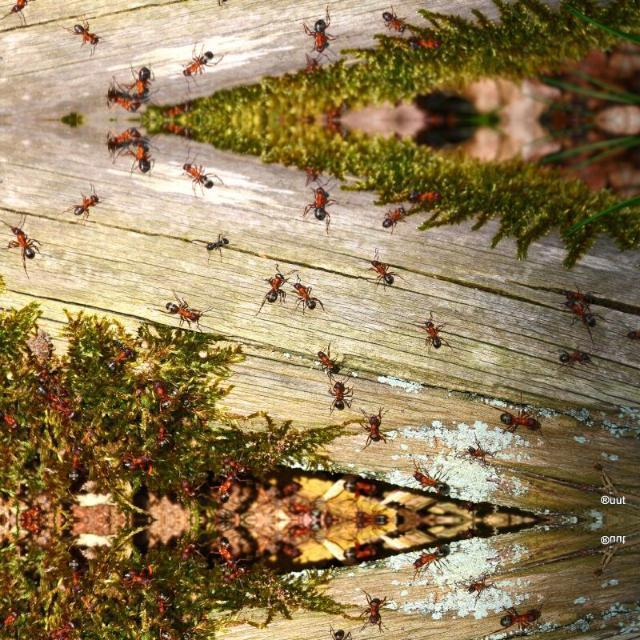Formica: (556, 286, 604, 336), (157, 292, 215, 332), (172, 152, 230, 190), (172, 50, 230, 88), (2, 212, 46, 262), (548, 338, 606, 374), (337, 466, 387, 506), (337, 534, 387, 574), (492, 405, 544, 439), (492, 601, 544, 635), (256, 266, 294, 312), (416, 316, 456, 358), (306, 340, 348, 380), (362, 252, 410, 284), (308, 181, 344, 221), (308, 19, 344, 59), (360, 590, 390, 634), (102, 337, 136, 375), (360, 406, 390, 449), (200, 227, 237, 260), (74, 181, 106, 219), (74, 21, 106, 59), (1, 0, 44, 28), (376, 200, 418, 228), (376, 12, 418, 40), (417, 467, 455, 497), (417, 543, 455, 573), (148, 373, 176, 411), (130, 141, 158, 177), (118, 446, 154, 474), (130, 63, 158, 99), (118, 566, 154, 594), (292, 279, 324, 309), (104, 126, 142, 150), (104, 90, 142, 114), (290, 498, 330, 518), (290, 522, 330, 542), (152, 415, 174, 451), (152, 589, 174, 625), (406, 185, 452, 202), (406, 37, 452, 54), (461, 438, 491, 464), (178, 468, 204, 498), (461, 576, 491, 602), (178, 542, 204, 572), (68, 448, 92, 480), (68, 560, 92, 592), (332, 383, 356, 413), (266, 481, 306, 499), (352, 500, 388, 520), (266, 541, 306, 559), (352, 520, 388, 540), (216, 453, 252, 472), (50, 399, 78, 423), (4, 405, 28, 433), (50, 616, 78, 640), (4, 607, 28, 635), (216, 568, 252, 586), (154, 120, 194, 136), (154, 104, 194, 120), (217, 474, 239, 498), (217, 542, 239, 566), (36, 382, 62, 402), (198, 0, 235, 12), (302, 158, 320, 182), (302, 58, 320, 82), (26, 495, 42, 519), (26, 521, 42, 545), (147, 628, 176, 640), (332, 626, 354, 640)
